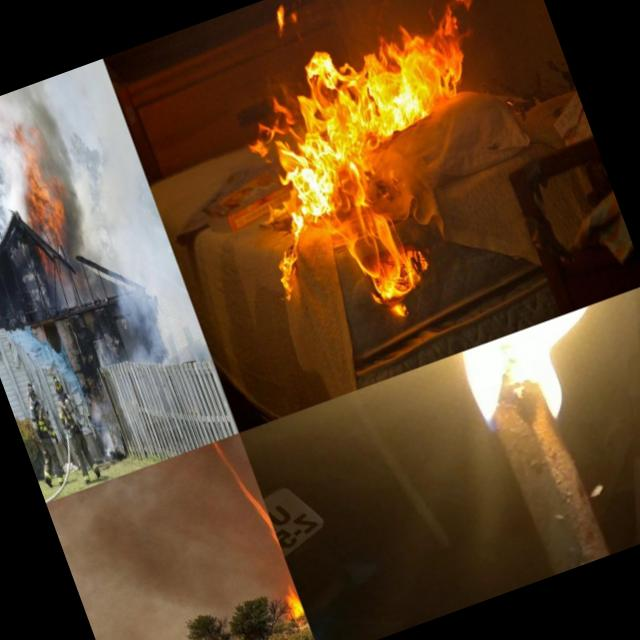fire: (192, 0, 573, 345), (443, 297, 640, 447), (5, 138, 73, 245), (272, 554, 305, 618), (220, 449, 250, 494), (242, 484, 272, 528), (263, 523, 283, 557), (202, 438, 228, 459)
smoke: (20, 59, 204, 362), (46, 446, 254, 640), (234, 528, 282, 598), (0, 89, 39, 156), (99, 619, 193, 640), (225, 433, 258, 489)
